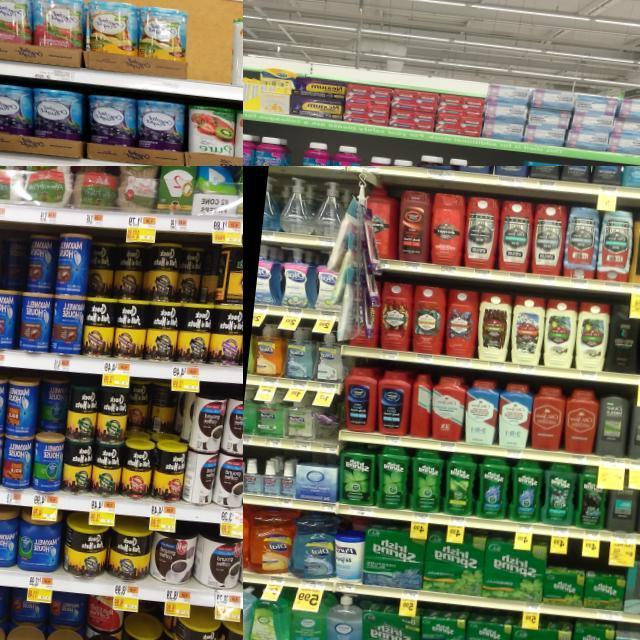empty: (183, 12, 233, 96)
